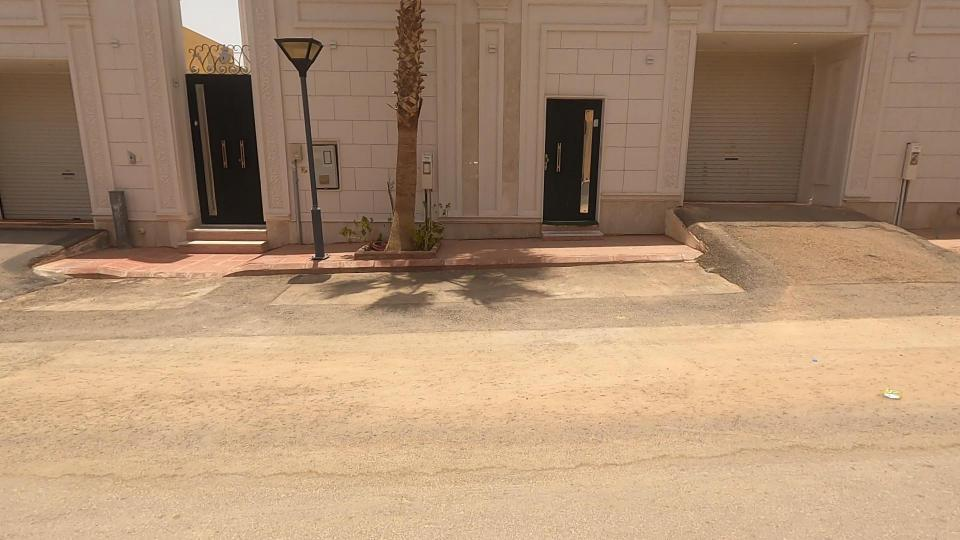GARBAGE: (845, 362, 929, 418)
